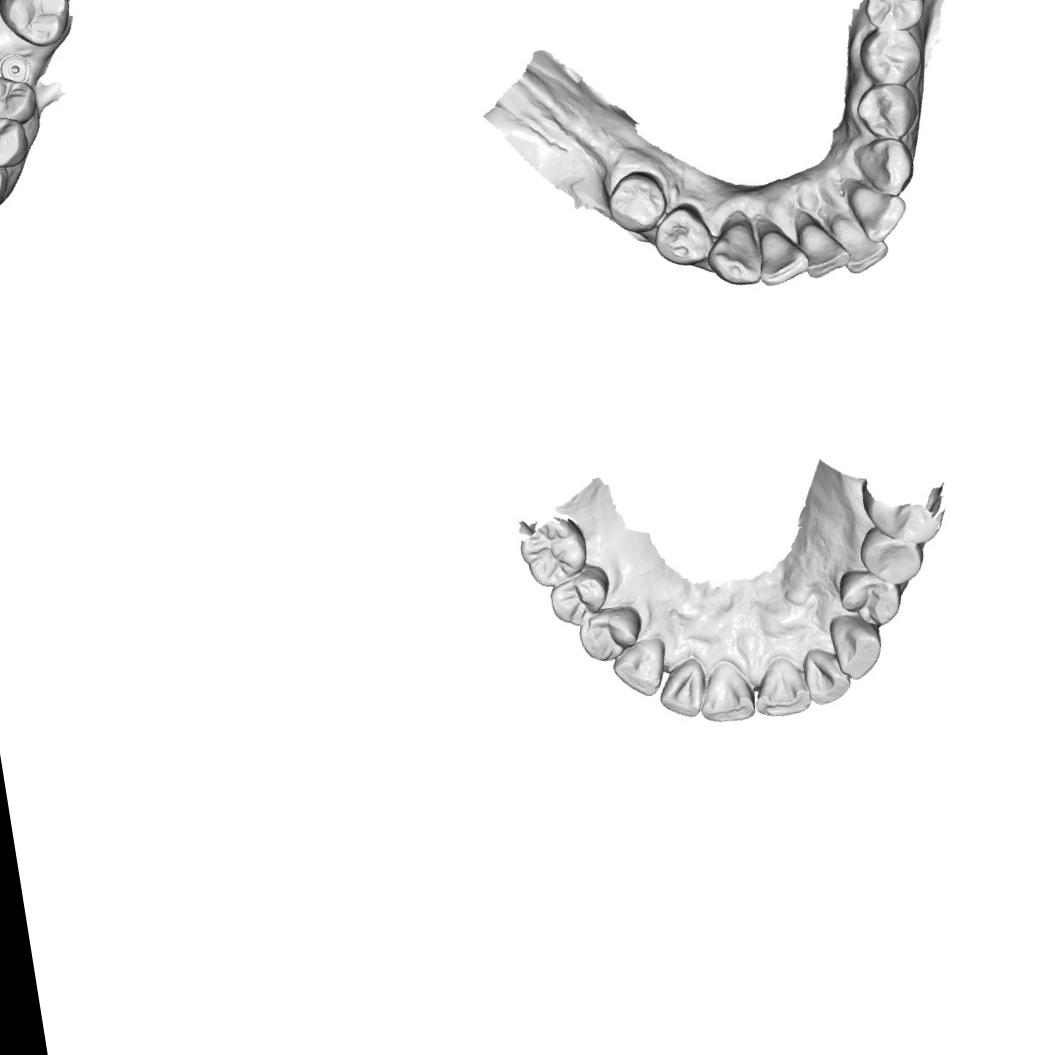canine: (850, 134, 920, 202), (703, 218, 768, 290), (826, 608, 887, 684), (608, 634, 673, 702), (0, 149, 14, 219)
implant: (0, 50, 34, 88)
incisor: (845, 175, 909, 246), (748, 652, 814, 720), (693, 658, 757, 726), (653, 655, 711, 722), (797, 213, 853, 282), (753, 226, 811, 290), (799, 642, 854, 708), (836, 218, 892, 278)
molar: (514, 509, 592, 592), (0, 0, 77, 51), (856, 0, 932, 37)
premolar: (854, 518, 928, 590), (834, 562, 905, 633), (543, 562, 616, 631), (602, 166, 670, 240), (855, 24, 927, 90), (850, 80, 920, 146), (648, 200, 714, 270), (576, 603, 648, 664), (0, 68, 40, 130), (0, 110, 32, 174)
